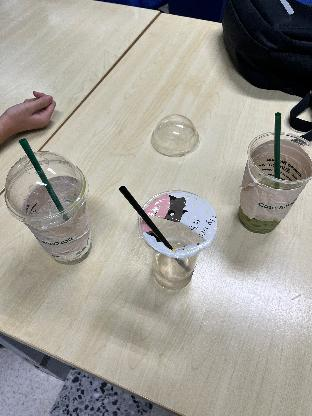Plastic Cup: (0, 154, 106, 264), (234, 131, 312, 241), (135, 190, 217, 288)
